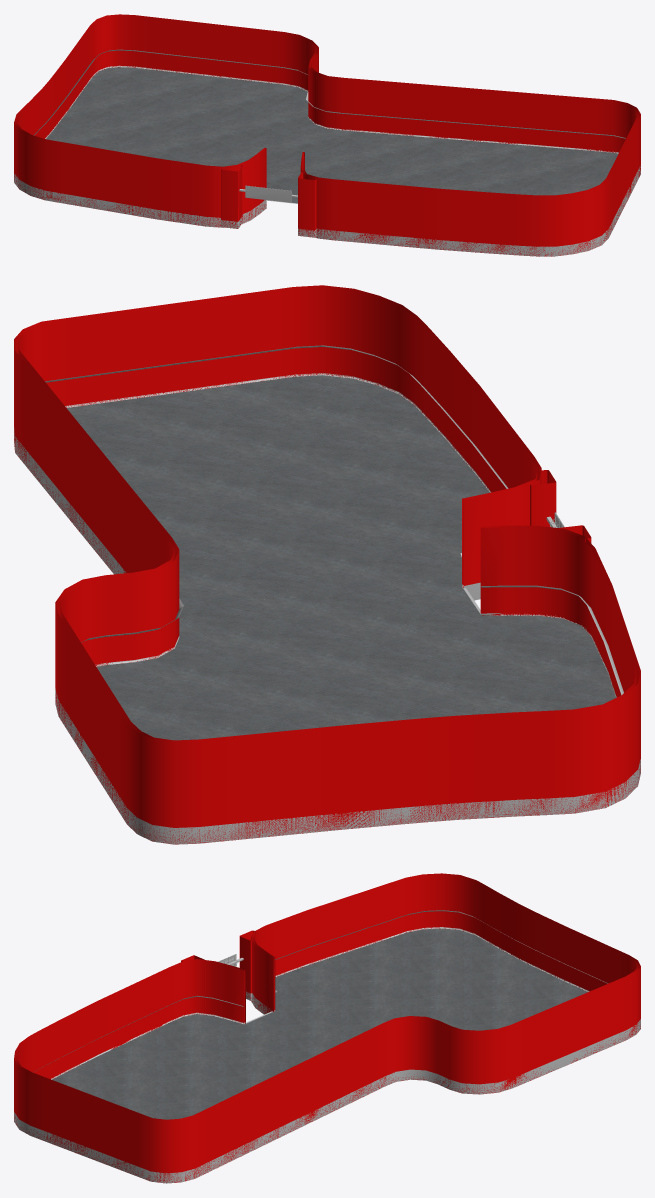
File: spedition.fbx
The picture shows the model from 3 angles, top to bottom: view 1: azimuth 30°, elevation 25°; view 2: azimuth 150°, elevation 25°; view 3: azimuth 270°, elevation 25°; orthographic projection. The views are drawn at different scales.
Parts seen in each view (by area): view 1: colmesh, gelaende, schild; view 2: colmesh, gelaende; view 3: colmesh, gelaende.
Part boxes in pixels (x1,y1,x2,y2): colmesh: [14, 14, 640, 256]; gelaende: [14, 49, 640, 256]; schild: [221, 185, 316, 237]; colmesh: [14, 285, 640, 844]; gelaende: [14, 345, 640, 844]; colmesh: [14, 873, 640, 1183]; gelaende: [14, 910, 640, 1183].
Size of the model in its own units: 8662 by 1030 by 9278.
